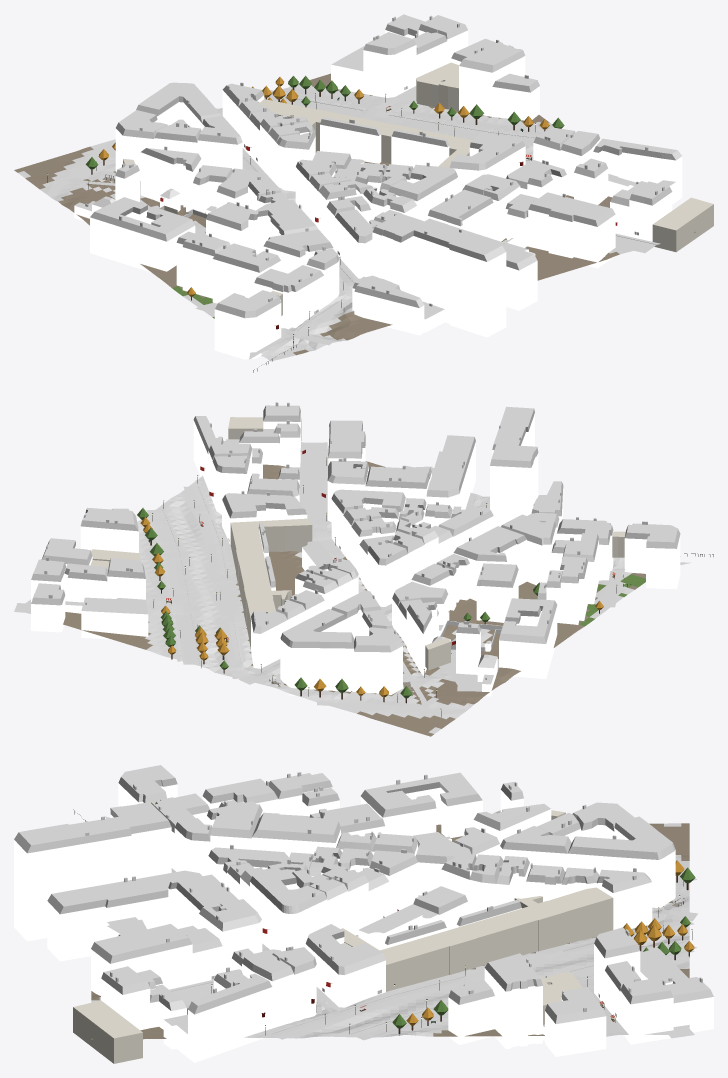
The model's file is zone_F4.glb.
3 renders of one model, top to bottom at view 1: azimuth 30°, elevation 25°; view 2: azimuth 150°, elevation 25°; view 3: azimuth 270°, elevation 25°, orthographic. The views are drawn at different scales.
Parts seen in each view (by area): view 1: zone_F4_batiments, zone_F4_terrain, zone_F4_sol_NOCOL, zone_F4_decor_NOCOL; view 2: zone_F4_batiments, zone_F4_terrain, zone_F4_sol_NOCOL, zone_F4_decor_NOCOL; view 3: zone_F4_batiments, zone_F4_terrain, zone_F4_sol_NOCOL, zone_F4_decor_NOCOL.
Part boxes in pixels (bbox=[...]): zone_F4_batiments: bbox=[74, 14, 713, 359]; zone_F4_terrain: bbox=[14, 73, 695, 361]; zone_F4_sol_NOCOL: bbox=[46, 86, 658, 359]; zone_F4_decor_NOCOL: bbox=[47, 75, 564, 372]; zone_F4_batiments: bbox=[31, 402, 680, 696]; zone_F4_terrain: bbox=[25, 442, 680, 736]; zone_F4_sol_NOCOL: bbox=[14, 442, 691, 713]; zone_F4_decor_NOCOL: bbox=[137, 457, 713, 717]; zone_F4_batiments: bbox=[14, 765, 713, 1063]; zone_F4_terrain: bbox=[91, 823, 689, 1039]; zone_F4_sol_NOCOL: bbox=[105, 816, 697, 1040]; zone_F4_decor_NOCOL: bbox=[73, 809, 695, 1035].
Bounding box in the file's own units: 227 × 41.49 × 246.
